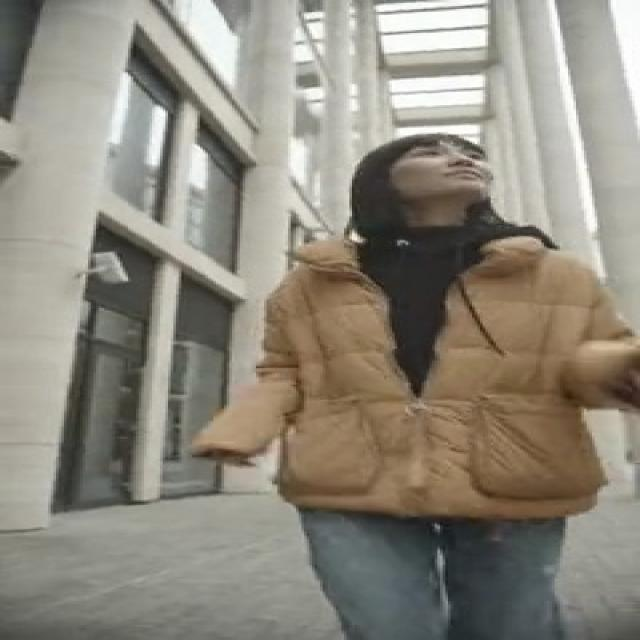Jacket_Wearer: (206, 224, 640, 504)
Person: (181, 142, 639, 640)
